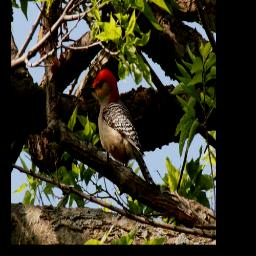Woodpecker: (80, 65, 159, 189)
